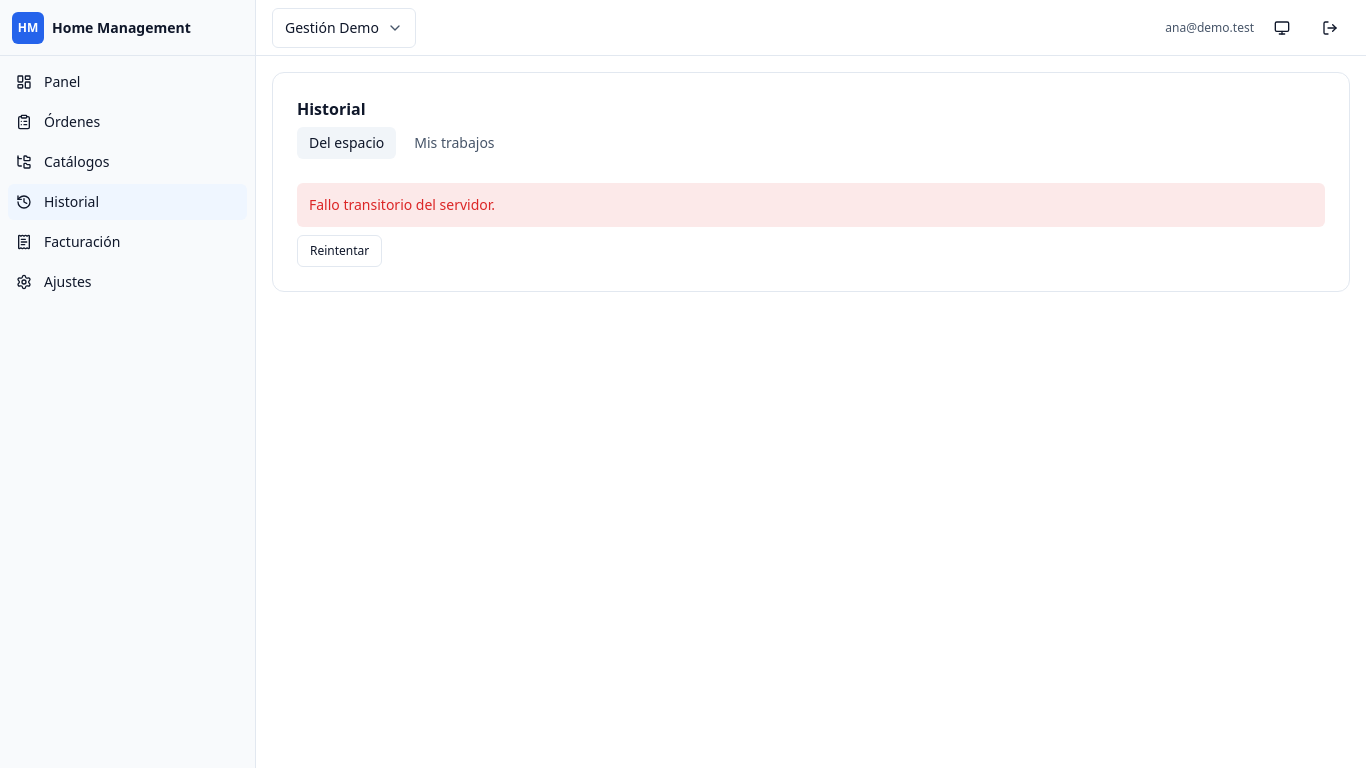
it: history hub (spec F5 §2.2, AC-F5.1…AC-F5.4) › surfaces the RFC 7807 detail and retries the space tab on demand
Expected: the text "Fallo transitorio del servidor." is shown, [297, 183, 1325, 227]
Click the button "Reintentar" at (340, 251), box [297, 235, 382, 267]
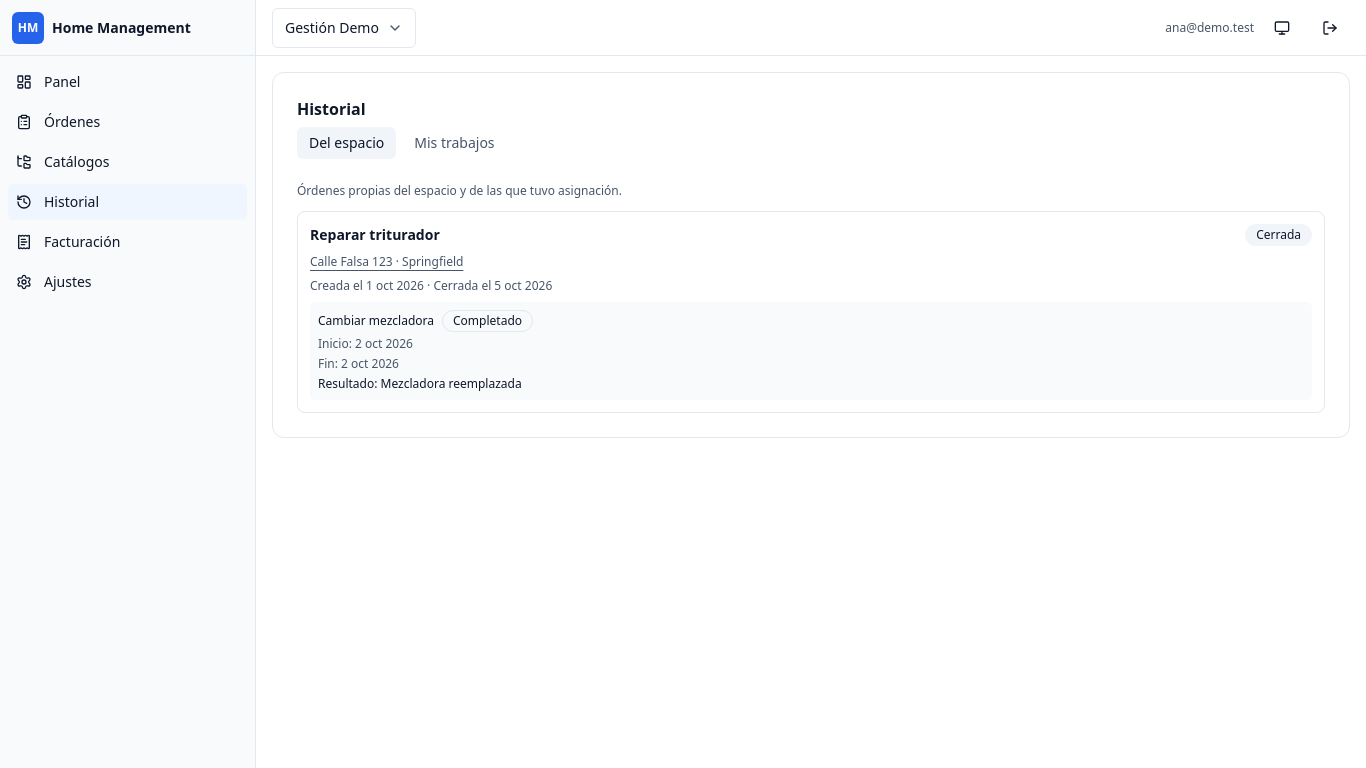
Expected: the link "Reparar triturador" is shown, [310, 225, 440, 244]
